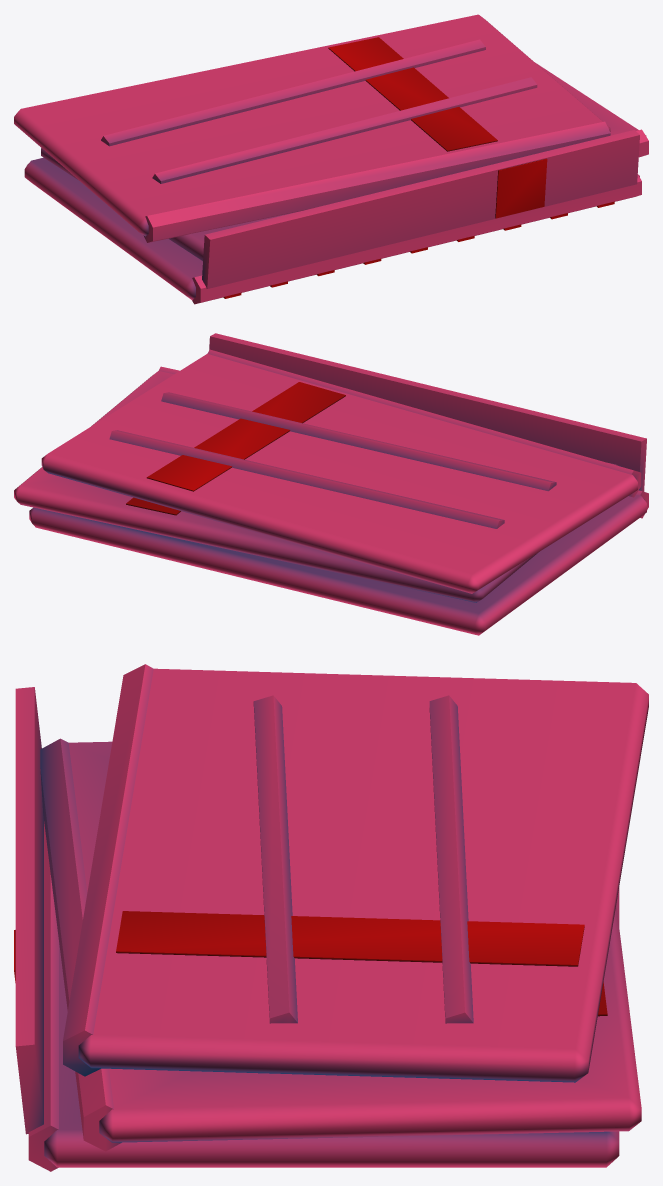
Rendered from CI_Living_Throw_Draped.glb.
3 views of the same model, one above another, from view 1: azimuth 30°, elevation 25°; view 2: azimuth 150°, elevation 25°; view 3: azimuth 270°, elevation 25° (orthographic). The views are drawn at different scales.
Visible parts, largest first — view 1: CI_Living_Throw_Draped; view 2: CI_Living_Throw_Draped; view 3: CI_Living_Throw_Draped.
Boxes of the visible parts, <box> form: CI_Living_Throw_Draped: <box>14,14,648,304</box>; CI_Living_Throw_Draped: <box>14,333,648,635</box>; CI_Living_Throw_Draped: <box>14,664,648,1171</box>.
Size of the model in its own units: 0.6111 by 0.0905 by 0.3976.
